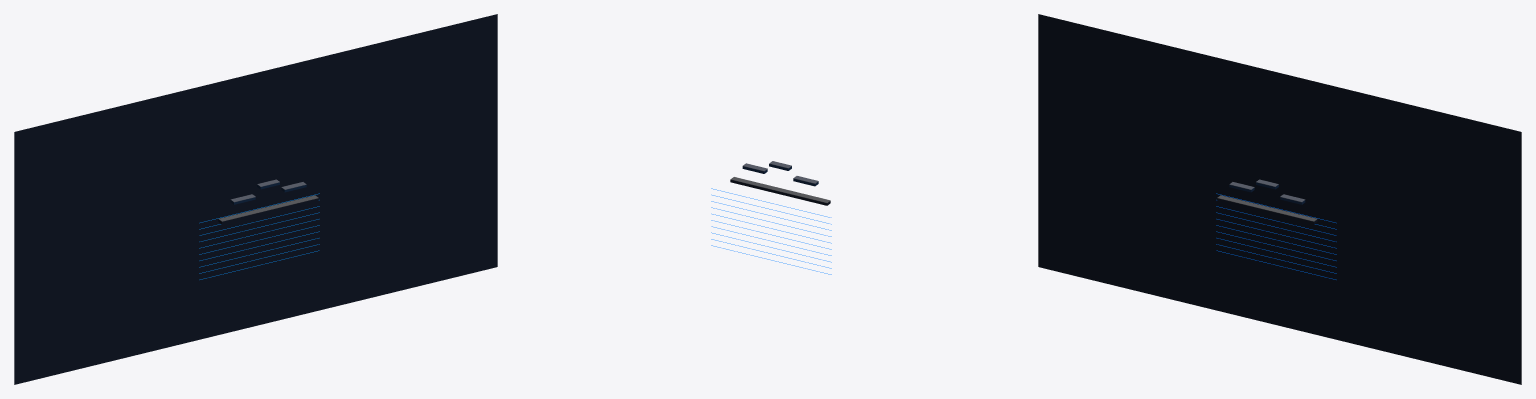
The model's file is digitalGrid.glb.
3 views of the same model, side by side, from view 1: azimuth 30°, elevation 25°; view 2: azimuth 150°, elevation 25°; view 3: azimuth 330°, elevation 25° (orthographic).
Visible parts, largest first — view 1: background, object 3; view 2: object 3; view 3: background, object 3.
Part boxes in pixels (box(x1,y1,x2,y2)): background: box(14, 14, 497, 384); object 3: box(219, 195, 318, 221); object 3: box(730, 177, 830, 202); background: box(1038, 14, 1521, 384); object 3: box(1217, 195, 1316, 221).
Size of the model in its own units: 4000 by 2000 by 206.
